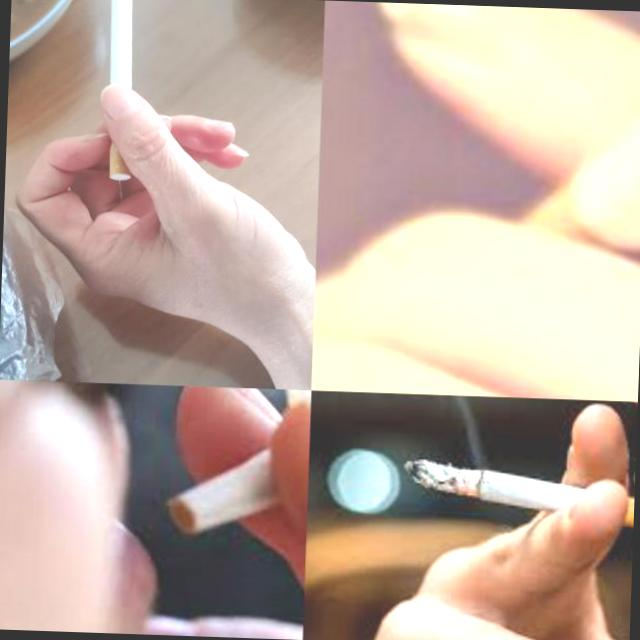cigarette: (478, 24, 640, 265), (170, 385, 311, 538), (400, 456, 635, 540), (103, 0, 138, 181)
